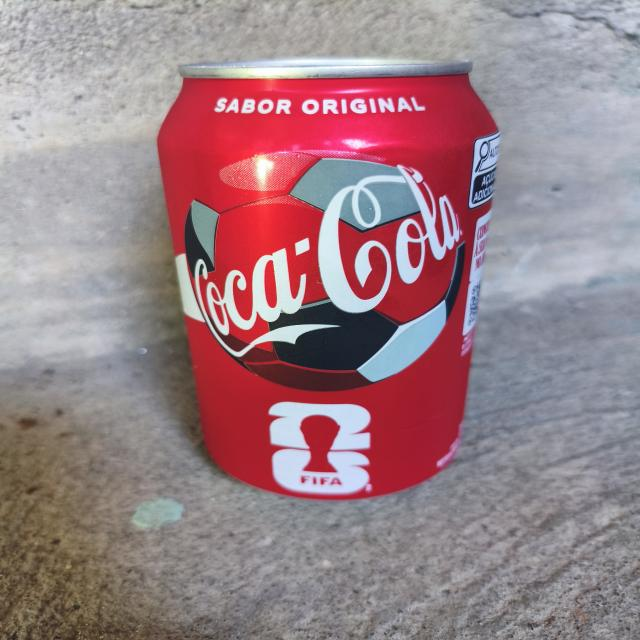Coca Cola: (151, 38, 508, 508)
